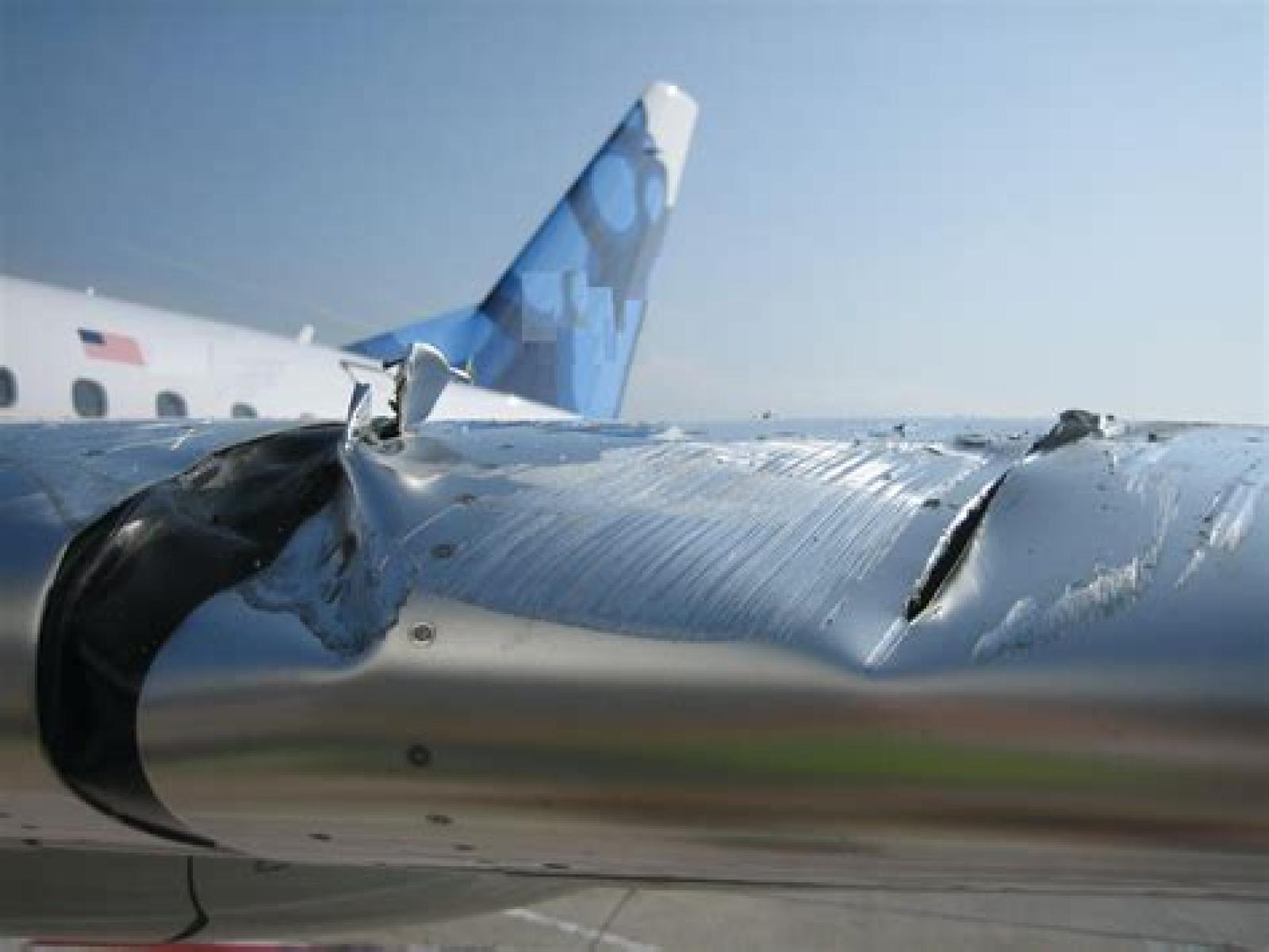Wing_damage: (238, 405, 1266, 668), (35, 421, 404, 842), (37, 424, 348, 845), (902, 469, 1009, 622), (1028, 410, 1098, 451)
